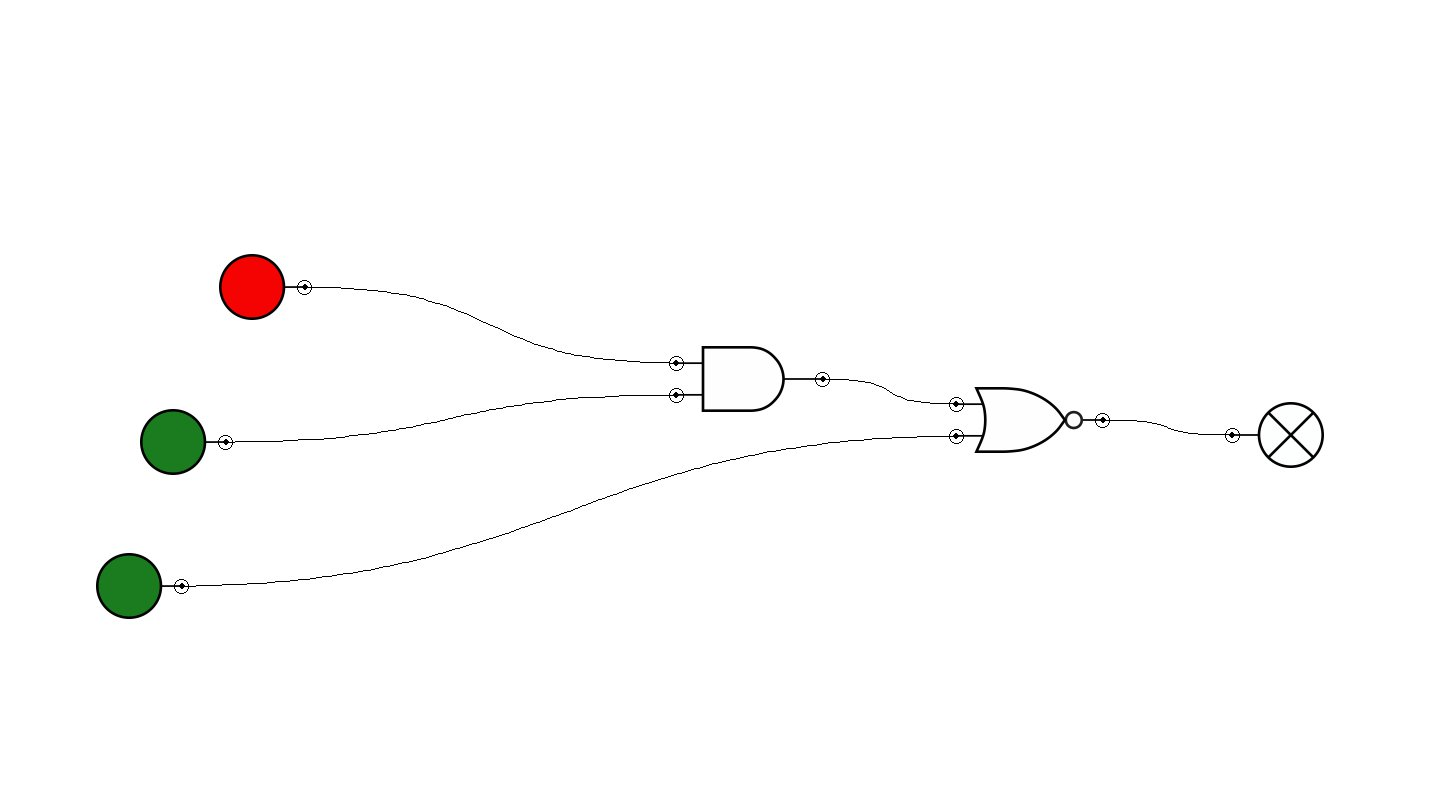and: (669, 346, 830, 412)
bulb: (1225, 402, 1324, 468)
nor: (949, 387, 1110, 453)
switch_False: (219, 254, 312, 320)
switch_True: (96, 553, 189, 619), (140, 409, 233, 475)
